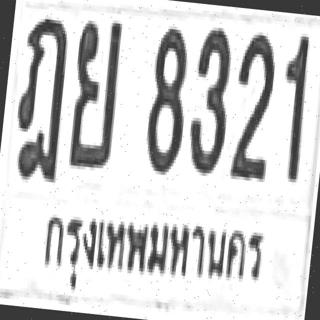A14: (9, 14, 70, 179)
A34: (64, 15, 122, 167)
N01: (274, 30, 312, 181)
N02: (227, 30, 277, 178)
N03: (184, 22, 234, 174)
N08: (142, 24, 192, 173)
P04: (32, 197, 272, 317)
